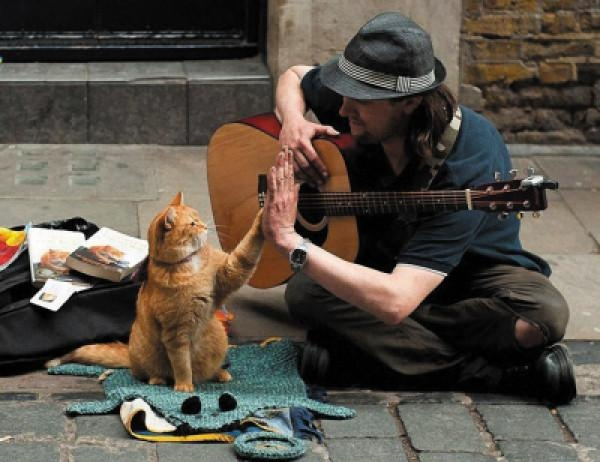cat: (59, 192, 268, 394)
